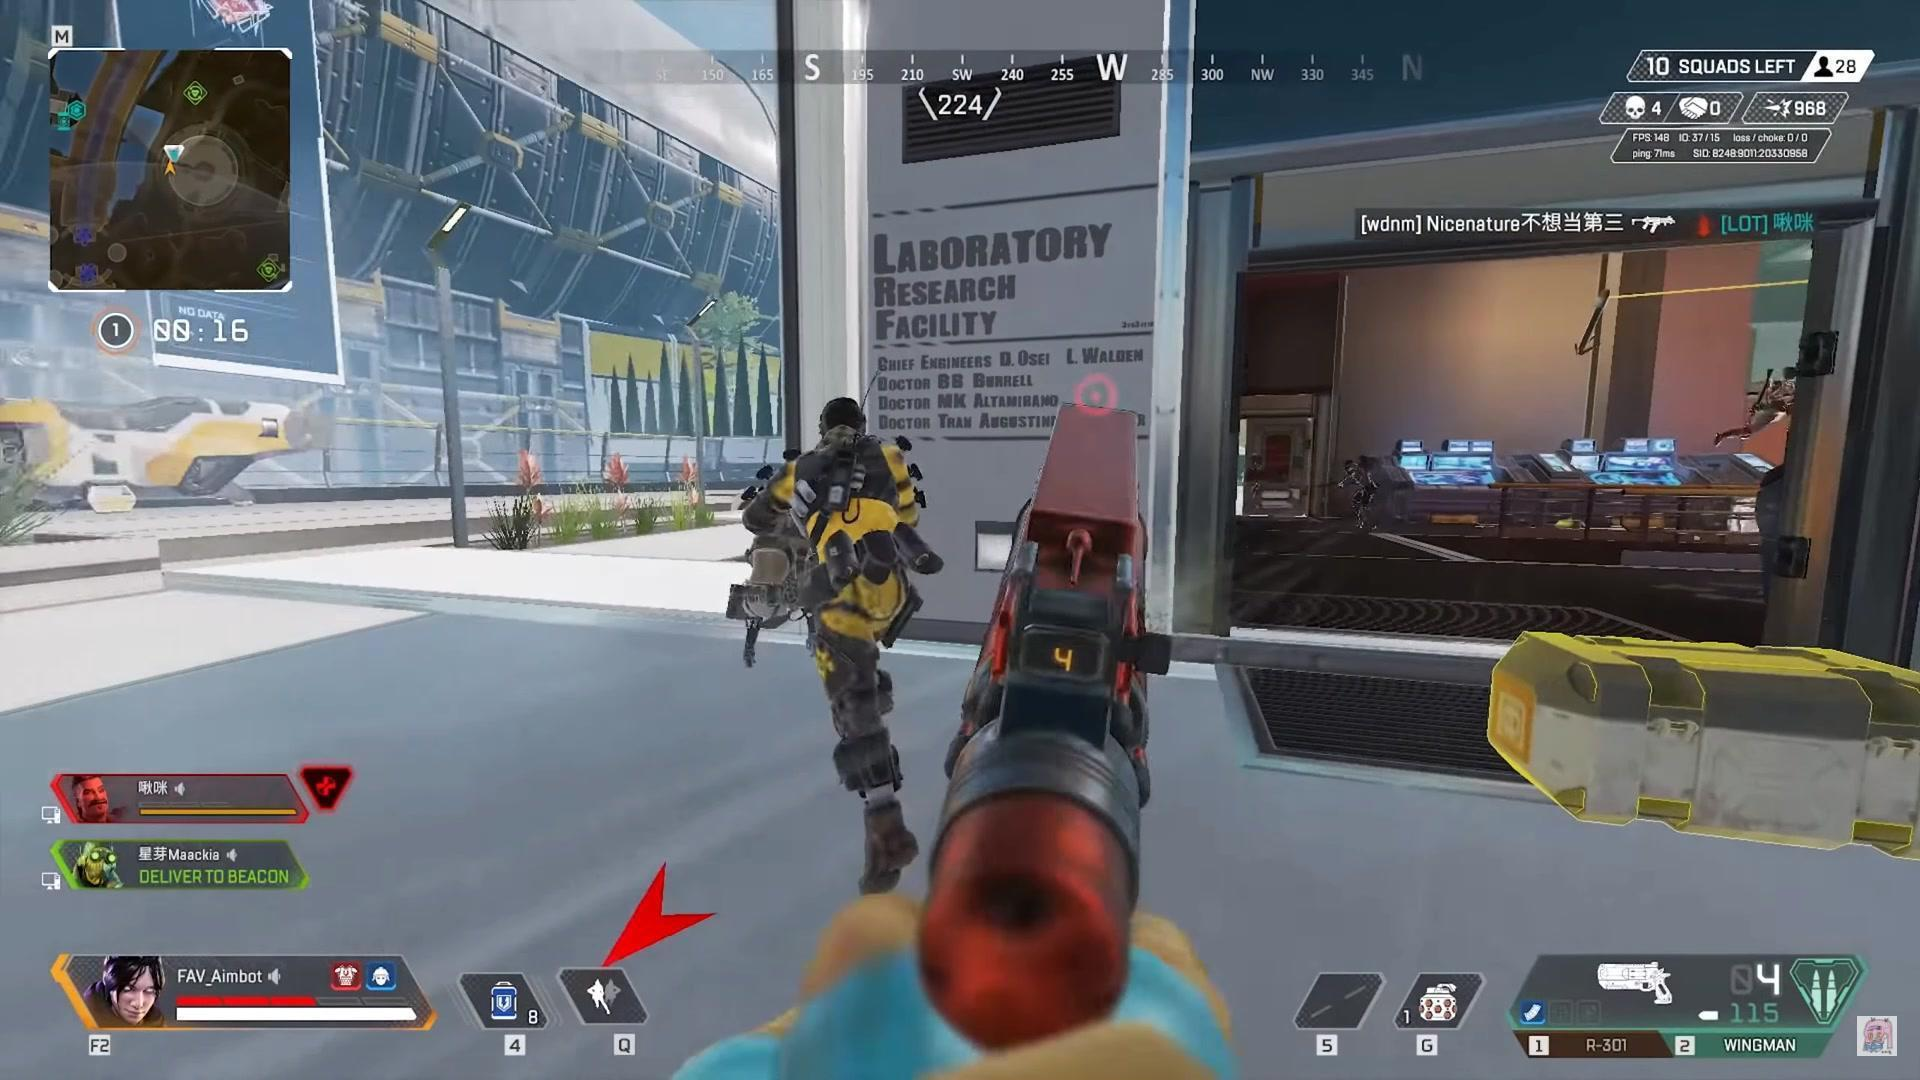avatar: (723, 394, 929, 901)
